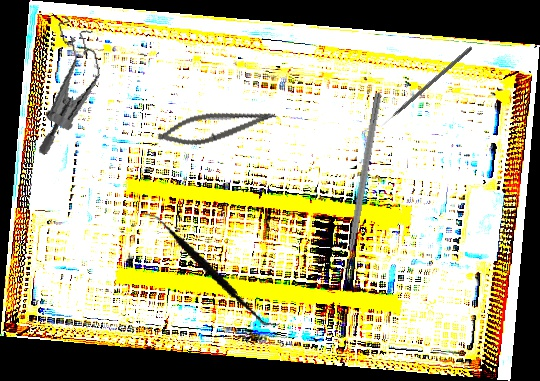Chopper: (332, 90, 383, 279)
Hook Surgical: (379, 45, 473, 128)
Micro Scissor: (155, 95, 280, 156)
Spatula Surgical: (125, 210, 296, 328)
Speculum: (13, 10, 116, 156)
